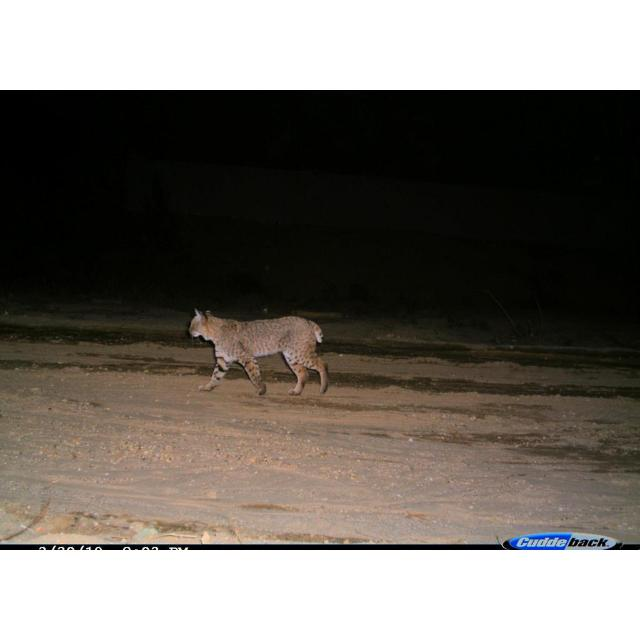animals: (187, 306, 333, 400)
